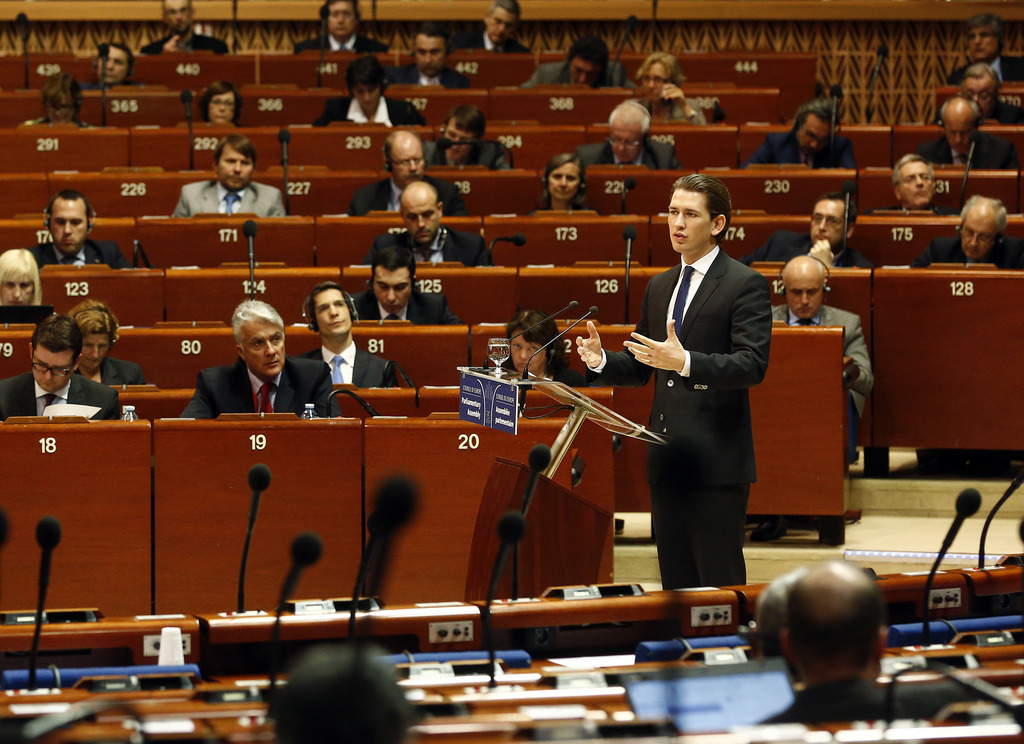Person: (0, 0, 1024, 744), (575, 173, 771, 585)
